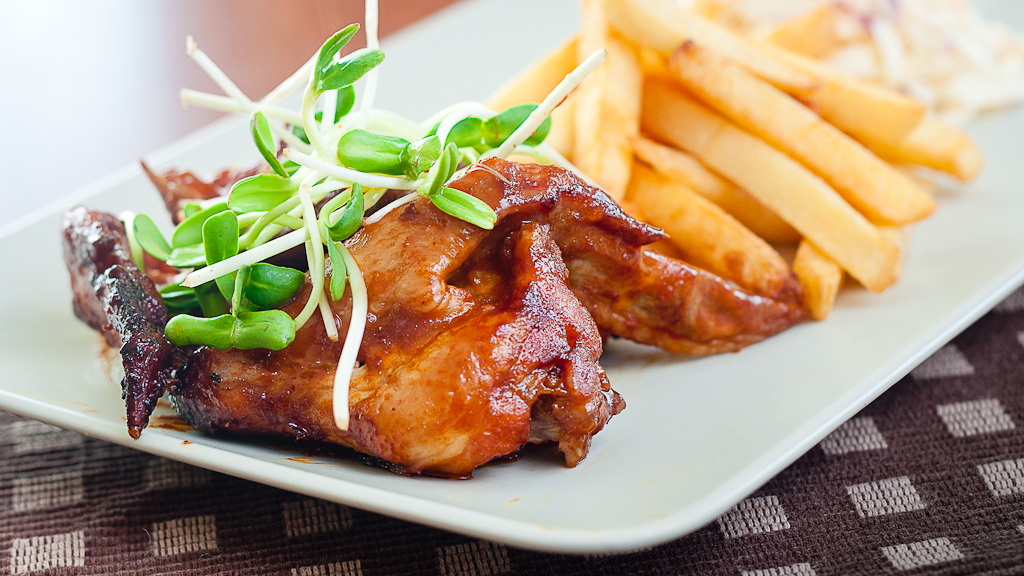French fries: (471, 0, 981, 335)
